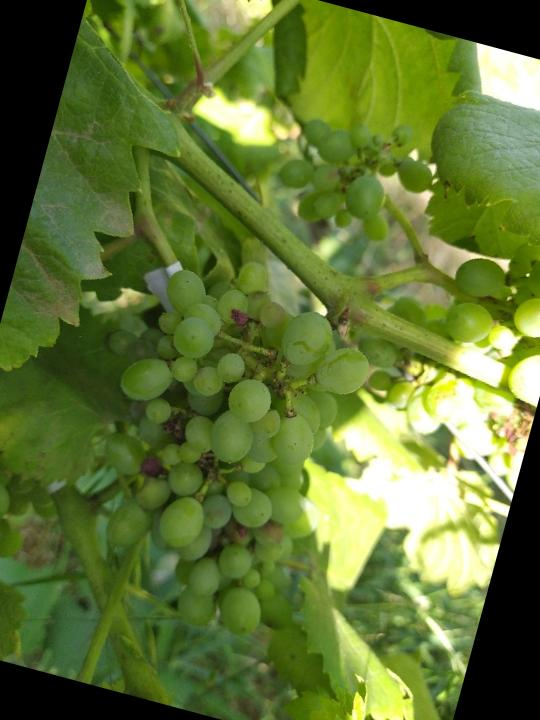grape: (30, 225, 422, 692), (268, 96, 448, 258)
